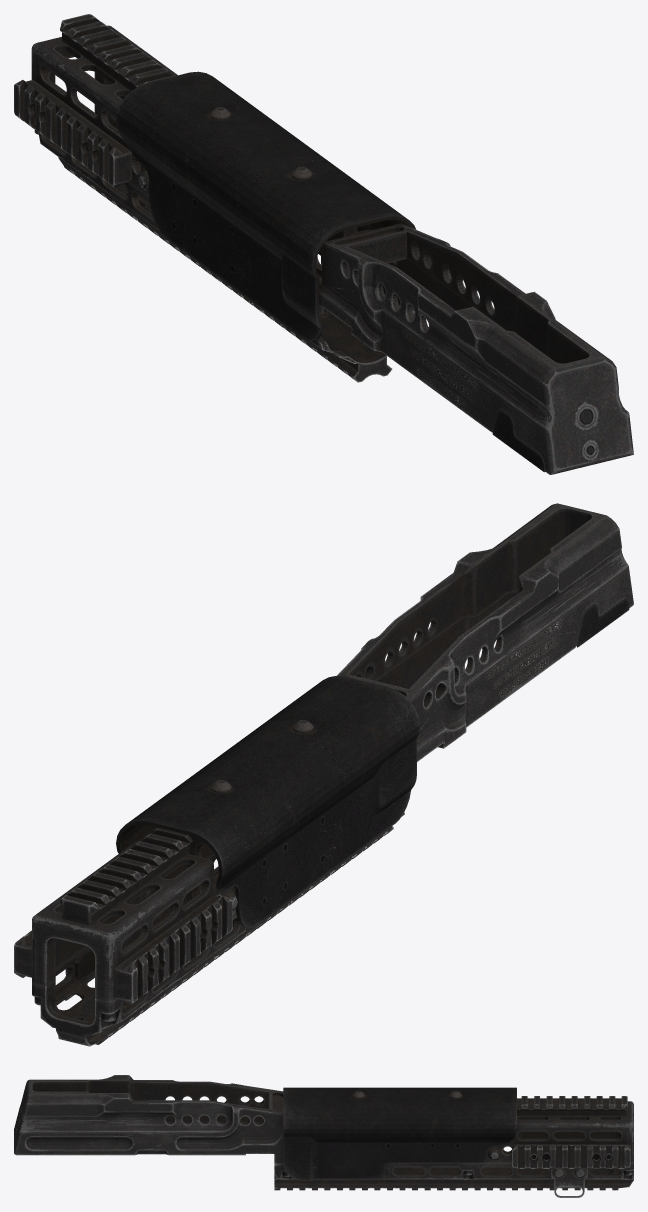
The picture shows the model from 3 angles, top to bottom: view 1: azimuth 30°, elevation 25°; view 2: azimuth 150°, elevation 25°; view 3: azimuth 270°, elevation 25°; orthographic projection. The views are drawn at different scales.
Visible parts, largest first — view 1: TW_5addc7005acfc4001669f275_PZ_Import; view 2: TW_5addc7005acfc4001669f275_PZ_Import; view 3: TW_5addc7005acfc4001669f275_PZ_Import.
Part boxes in pixels (box(x1,y1,x2,y2)): TW_5addc7005acfc4001669f275_PZ_Import: box(14, 14, 633, 474); TW_5addc7005acfc4001669f275_PZ_Import: box(14, 503, 633, 1046); TW_5addc7005acfc4001669f275_PZ_Import: box(14, 1075, 633, 1197).
Bounding box in the file's own units: 0.0374 × 0.2864 × 0.0506.
1 material, 1 textured.
